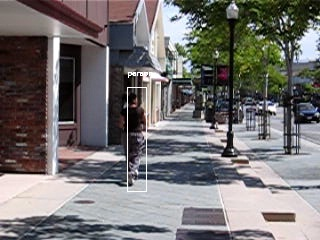person: (118, 92, 149, 186), (117, 92, 148, 186), (119, 92, 150, 186), (118, 91, 149, 185), (118, 93, 149, 187)
target_negative: (8, 75, 154, 160), (296, 153, 311, 184), (253, 156, 304, 161), (268, 231, 306, 237), (100, 197, 259, 198)
